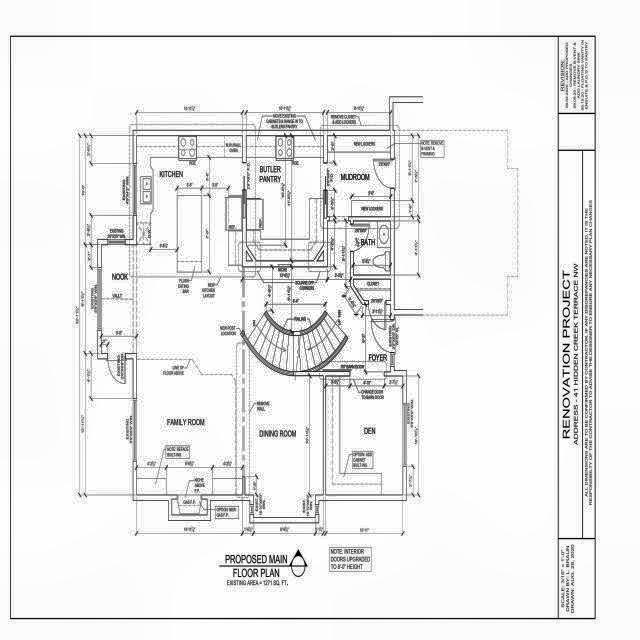room: (246, 136, 323, 261), (326, 376, 403, 495), (327, 136, 391, 217), (353, 221, 390, 275)
